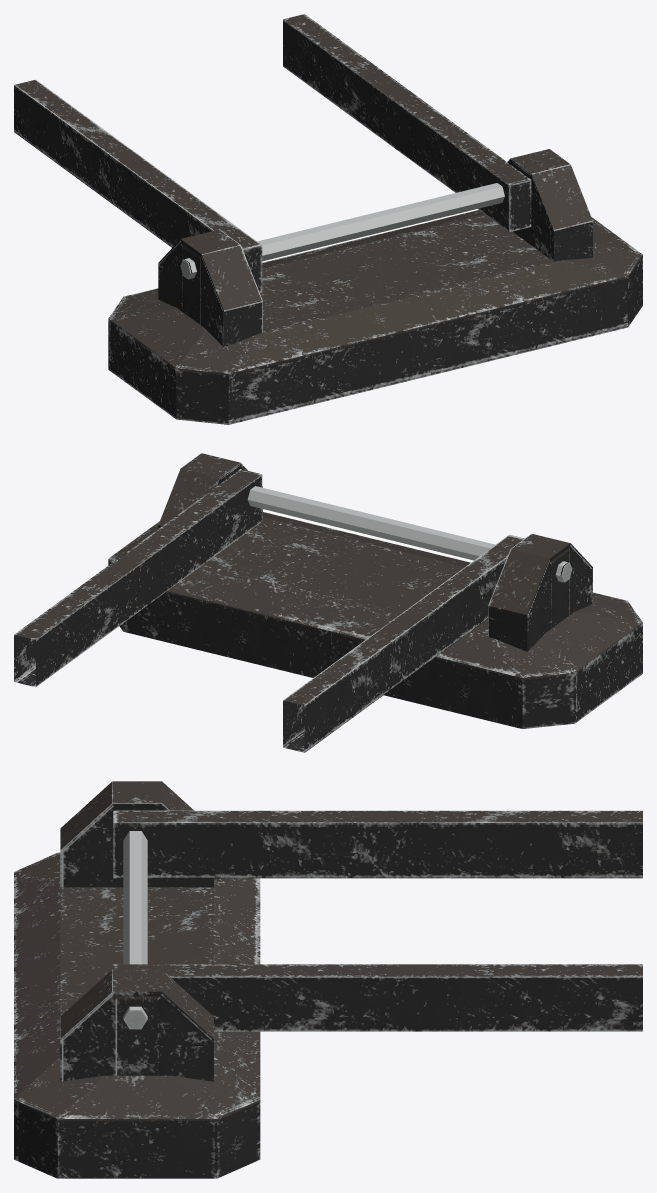
File: street-lamp.fbx
3 views of the same model, one above another, from view 1: azimuth 30°, elevation 25°; view 2: azimuth 150°, elevation 25°; view 3: azimuth 270°, elevation 25° (orthographic). The views are drawn at different scales.
Visible parts, largest first — view 1: street-lamp; view 2: street-lamp; view 3: street-lamp.
Boxes of the visible parts, x1,y1,x2,y2 form: street-lamp: [14, 14, 642, 424]; street-lamp: [14, 453, 642, 752]; street-lamp: [14, 781, 642, 1178].
Size of the model in its own units: 200 by 55.73 by 200.
Materials: 1 (1 with a texture image).
